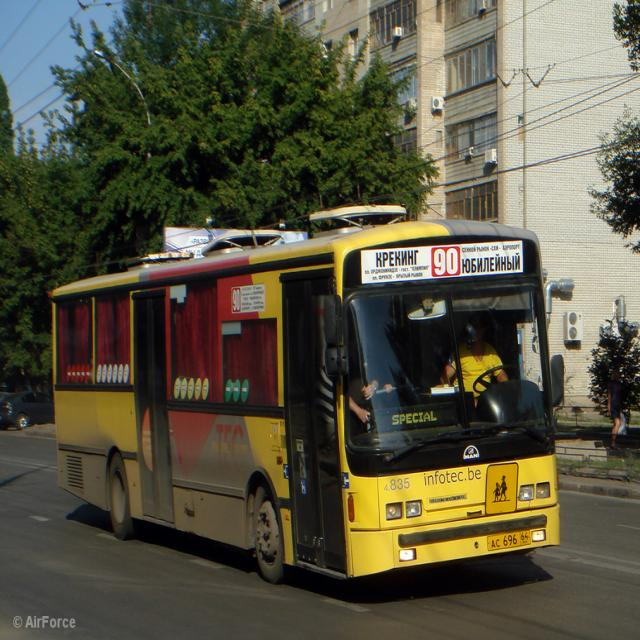number-of-bus: (433, 248, 461, 278), (233, 288, 242, 313)
